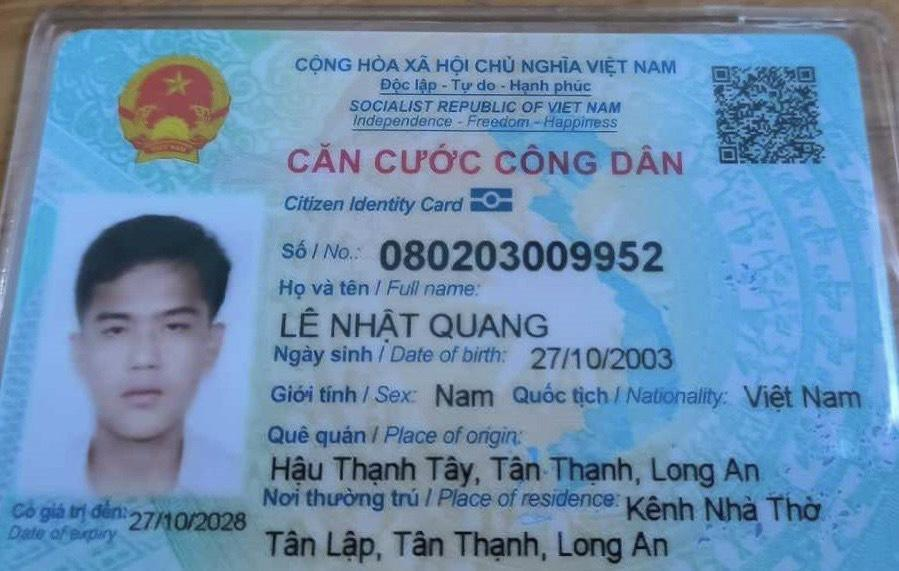ID: (374, 224, 676, 284)
birth: (523, 339, 679, 383)
name: (267, 299, 558, 345)
place: (262, 447, 777, 489)
residence: (260, 523, 687, 566), (620, 489, 830, 531)
